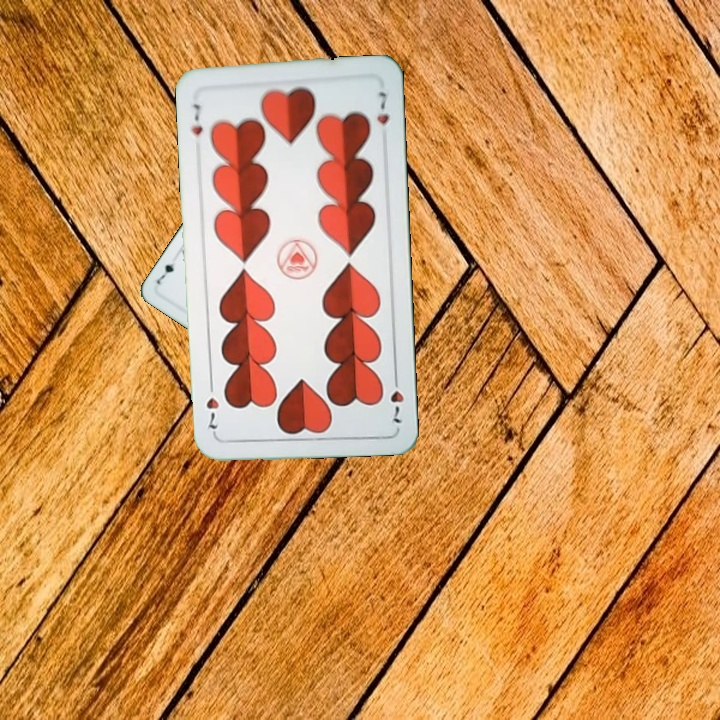H7: (386, 369, 407, 425), (188, 100, 205, 138)
